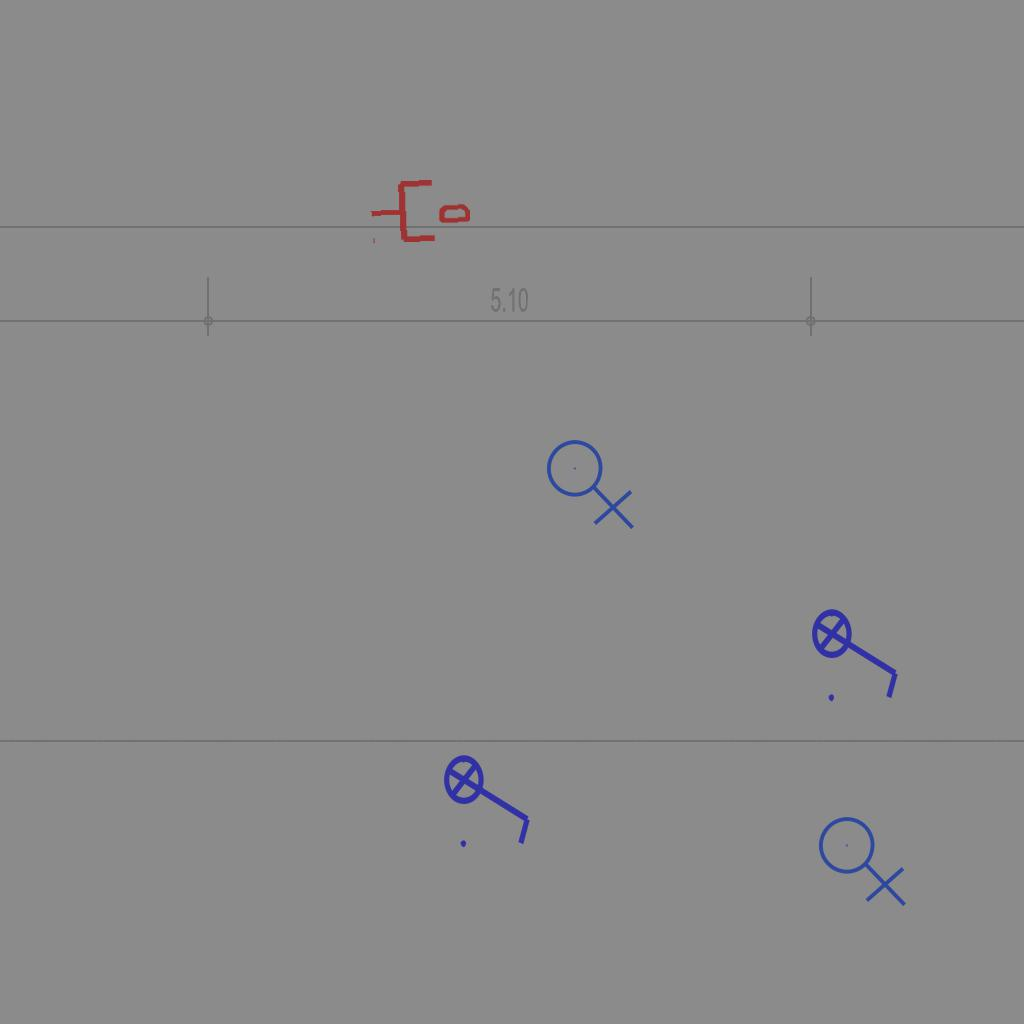Ausschalter_beleuchtet: (810, 595, 906, 707), (442, 741, 538, 853)
Datenanschluss_einfach: (367, 173, 472, 249)
Elektroanschluss_allgemein_230V_Geraeteanschlussdose_230V: (545, 431, 639, 530), (817, 808, 911, 907)
